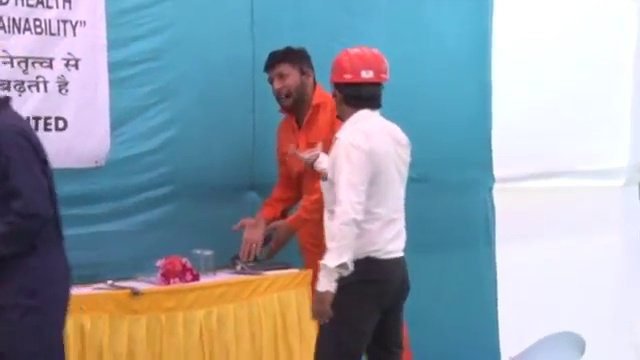helmet: (327, 42, 391, 86)
helmet_off: (264, 46, 318, 120)
helmet_on: (326, 42, 396, 123)
person: (295, 47, 410, 360), (233, 45, 344, 285), (1, 89, 85, 351)
